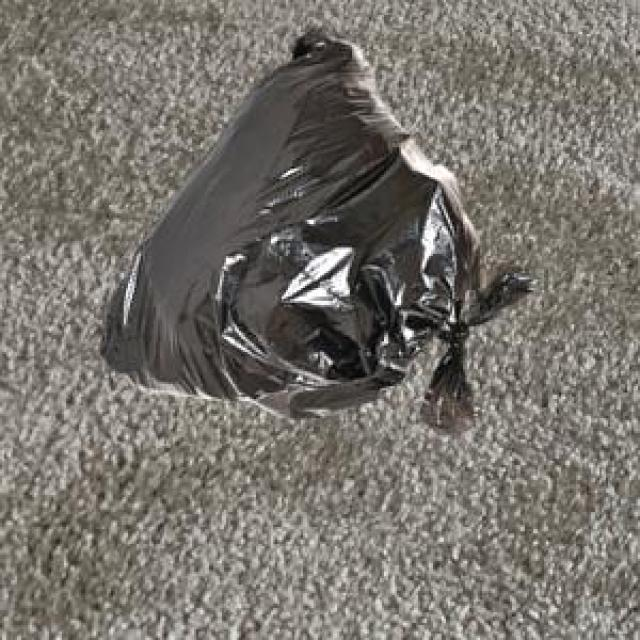miscellaneous trash: (96, 26, 533, 429)
